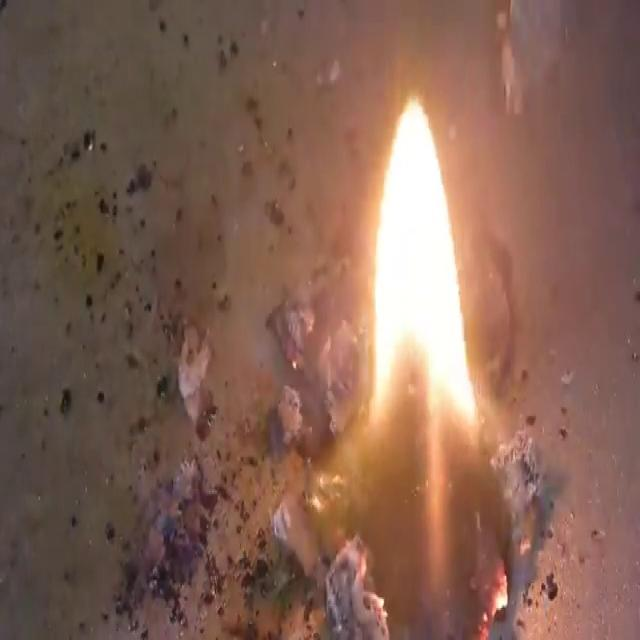Fire: (4, 4, 636, 636), (367, 90, 479, 436)
